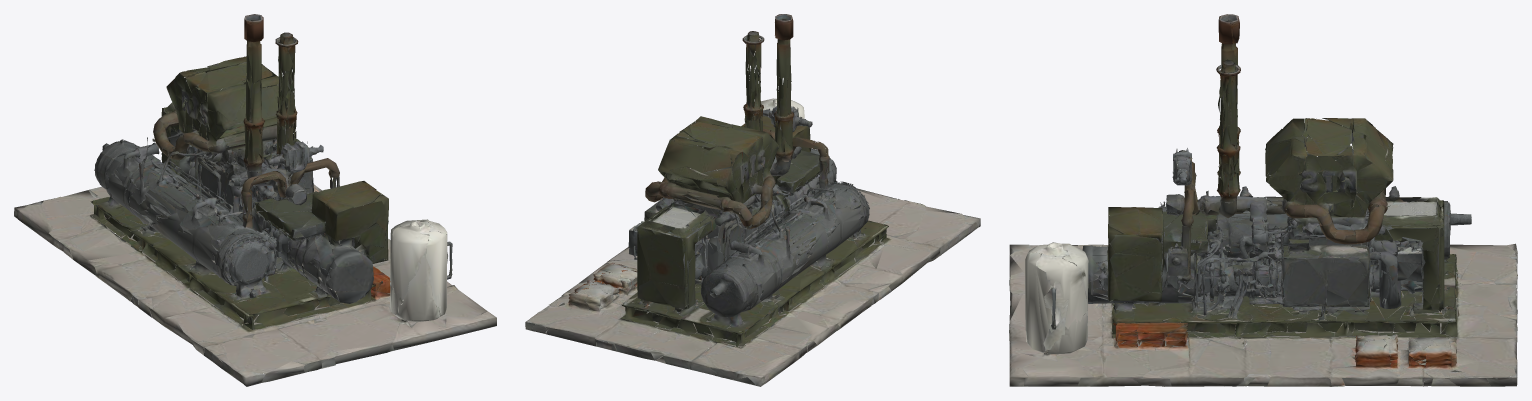
Rendered from dynamo.glb.
3 views of the same model, side by side, from view 1: azimuth 30°, elevation 25°; view 2: azimuth 150°, elevation 25°; view 3: azimuth 270°, elevation 25° (orthographic). The views are drawn at different scales.
Parts seen in each view (by area): view 1: Mesh_0; view 2: Mesh_0; view 3: Mesh_0.
Boxes of the visible parts, x1,y1,x2,y2 form: Mesh_0: (14, 14, 496, 386); Mesh_0: (525, 14, 980, 386); Mesh_0: (1009, 14, 1517, 386).
Size of the model in its own units: 1.18 by 1.22 by 1.91.
1 material, 1 textured.
